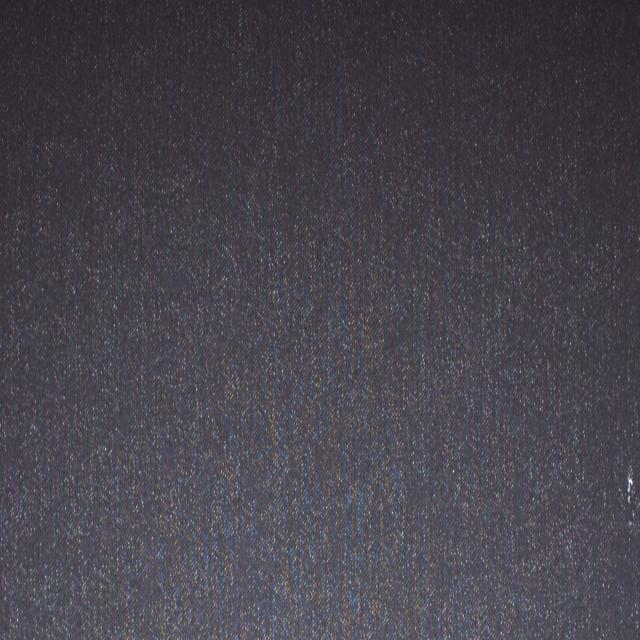Knot: (628, 466, 636, 506)
